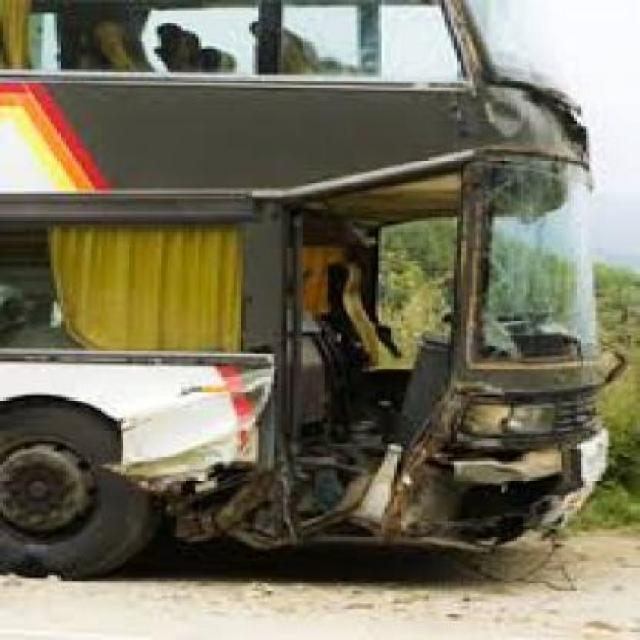accident: (37, 21, 621, 608)
